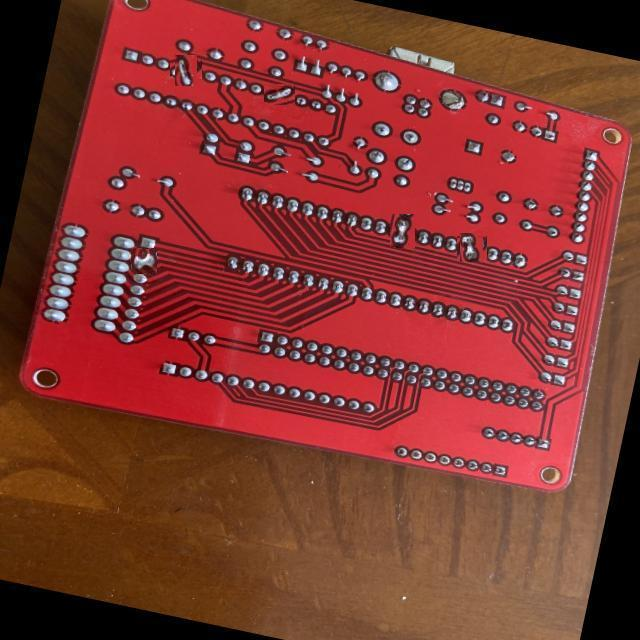damged: (387, 216, 417, 246), (172, 57, 200, 84), (459, 234, 485, 261), (131, 248, 157, 274), (264, 84, 295, 105)
